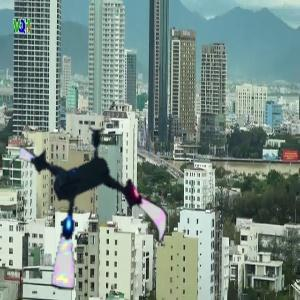drone: (4, 118, 181, 295)
